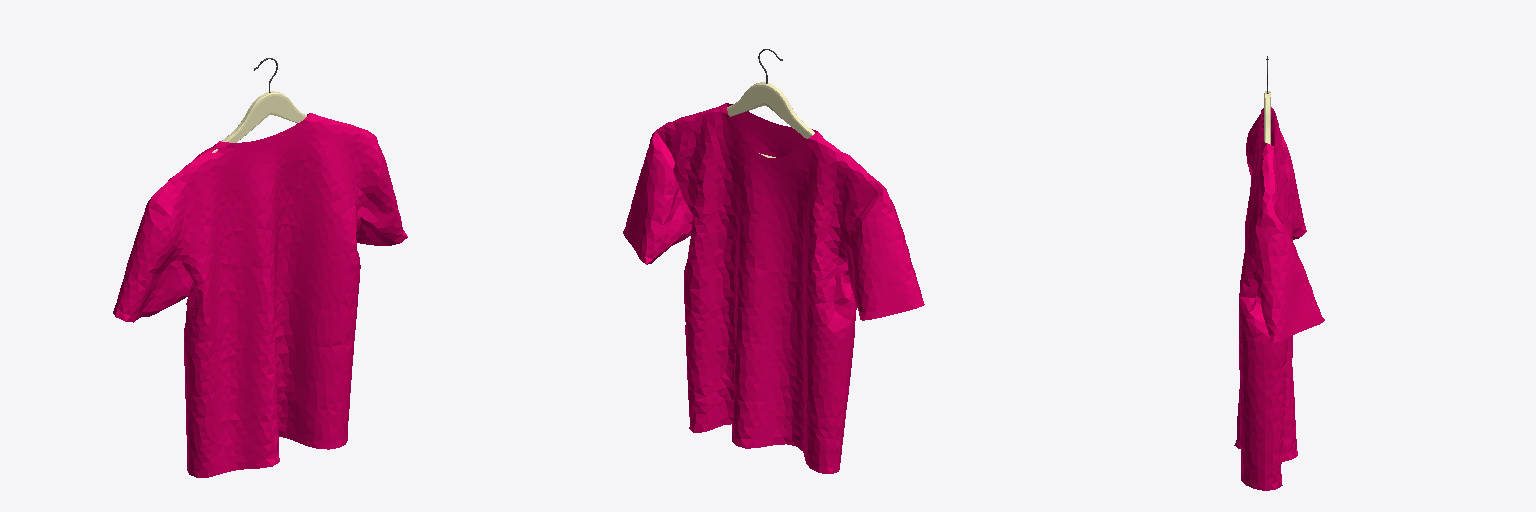
The model's file is shirt-2.obj.
3 views of the same model, side by side, from view 1: azimuth 30°, elevation 25°; view 2: azimuth 150°, elevation 25°; view 3: azimuth 270°, elevation 25° (orthographic).
Visible parts, largest first — view 1: SHIRT, HANGER; view 2: SHIRT, HANGER; view 3: SHIRT.
Part boxes in pixels (x1,y1,x2,y2): SHIRT: (113, 113, 407, 477); HANGER: (212, 58, 306, 152); SHIRT: (623, 103, 924, 473); HANGER: (727, 49, 814, 157); SHIRT: (1234, 107, 1324, 490).
Size of the model in its own units: 5.94 by 7.67 by 1.57.